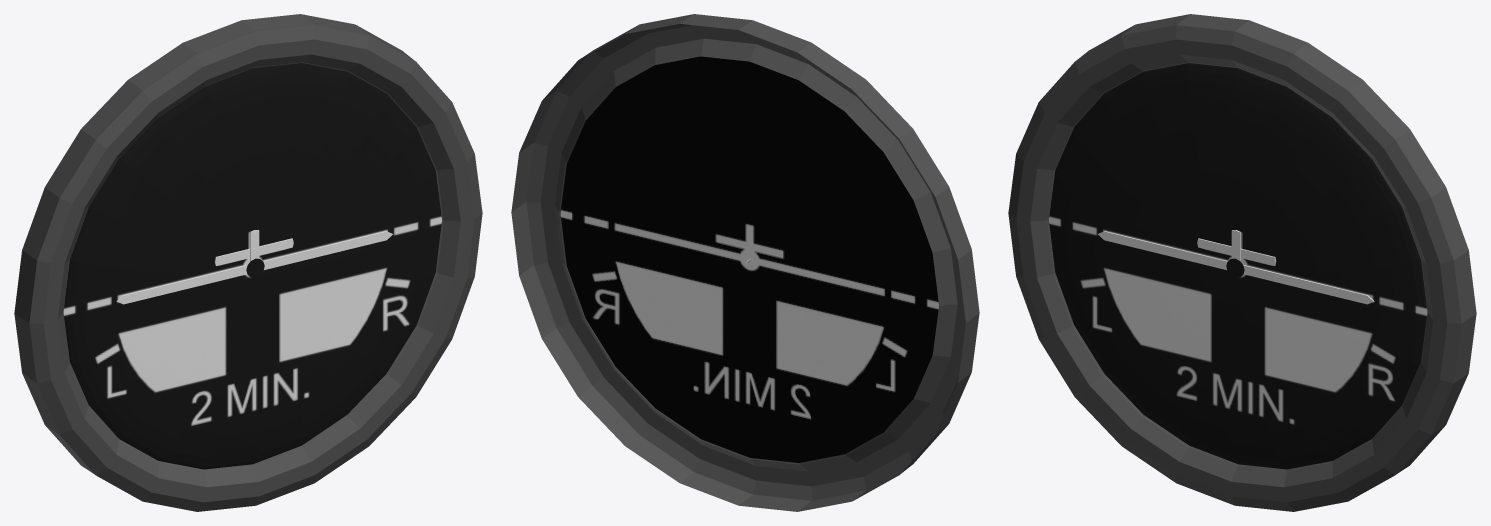
The model's file is Gauge_Airplane.obj.
3 renders of one model, left to right at view 1: azimuth 30°, elevation 25°; view 2: azimuth 150°, elevation 25°; view 3: azimuth 330°, elevation 25°, orthographic.
Parts seen in each view (by area): view 1: Face, Rim, NeedleMain; view 2: Face, Rim; view 3: Face, Rim, NeedleMain.
Part boxes in pixels (left/top/right/bottom): Face: left=63, top=63, right=441, bottom=469; Rim: left=14, top=14, right=482, bottom=511; NeedleMain: left=116, top=230, right=392, bottom=304; Face: left=560, top=56, right=938, bottom=462; Rim: left=511, top=14, right=979, bottom=511; Face: left=1049, top=63, right=1427, bottom=469; Rim: left=1008, top=14, right=1476, bottom=511; NeedleMain: left=1098, top=230, right=1374, bottom=304.
Bounding box in the file's own units: 0.0822 × 0.0822 × 0.00794.
